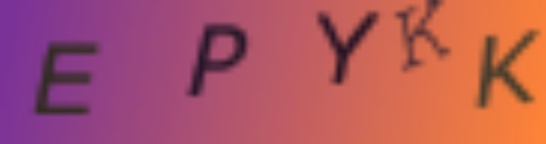E: (30, 37, 108, 117)
K: (473, 26, 542, 116), (394, 1, 454, 75)
P: (178, 18, 252, 102)
Y: (308, 3, 382, 90)
